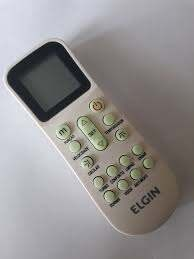remote control: (0, 45, 182, 245)
